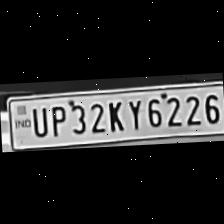2: (86, 99, 106, 134), (180, 92, 200, 126), (162, 92, 180, 128)
3: (66, 100, 86, 136)
6: (200, 90, 222, 124), (142, 95, 162, 129)
K: (104, 97, 124, 132)
P: (46, 102, 67, 136)
U: (27, 104, 48, 138)
Y: (123, 96, 143, 130)
